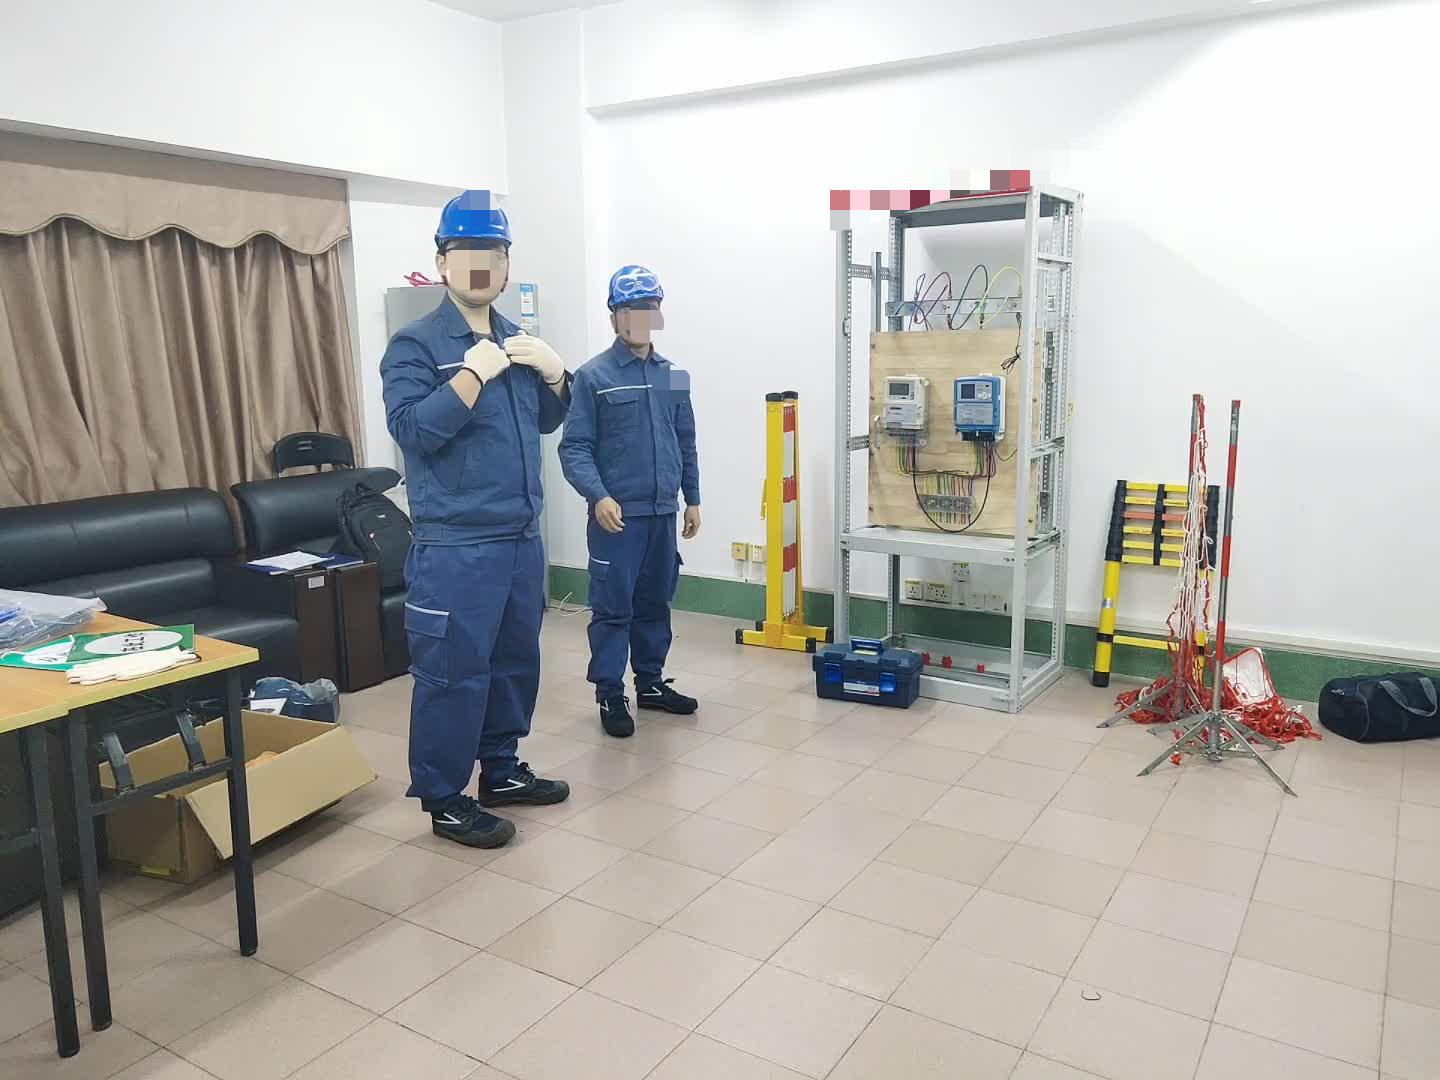halt: (435, 195, 519, 307), (605, 265, 670, 353)
